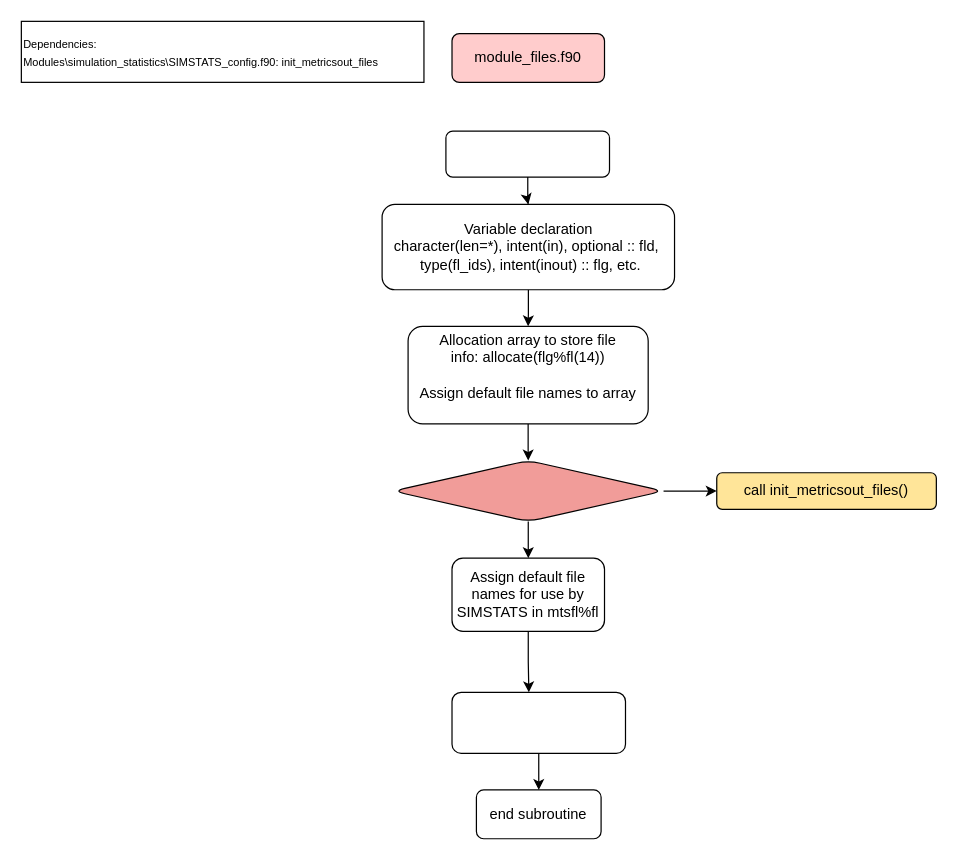
This 958x860 diagram has some shape labels left out. Each missing label, with the box of its shape:
if (.not. allocated(mtsfl%fl)): (392, 459, 664, 522)
Init_fls(flg, fld): (445, 130, 610, 177)
Replace default file information with values from file in array flg%fl: (451, 691, 625, 753)
